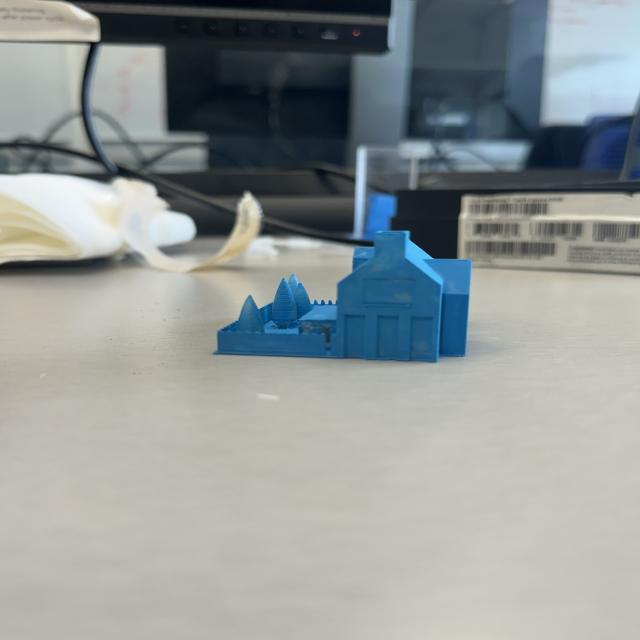house: (212, 227, 474, 364)
